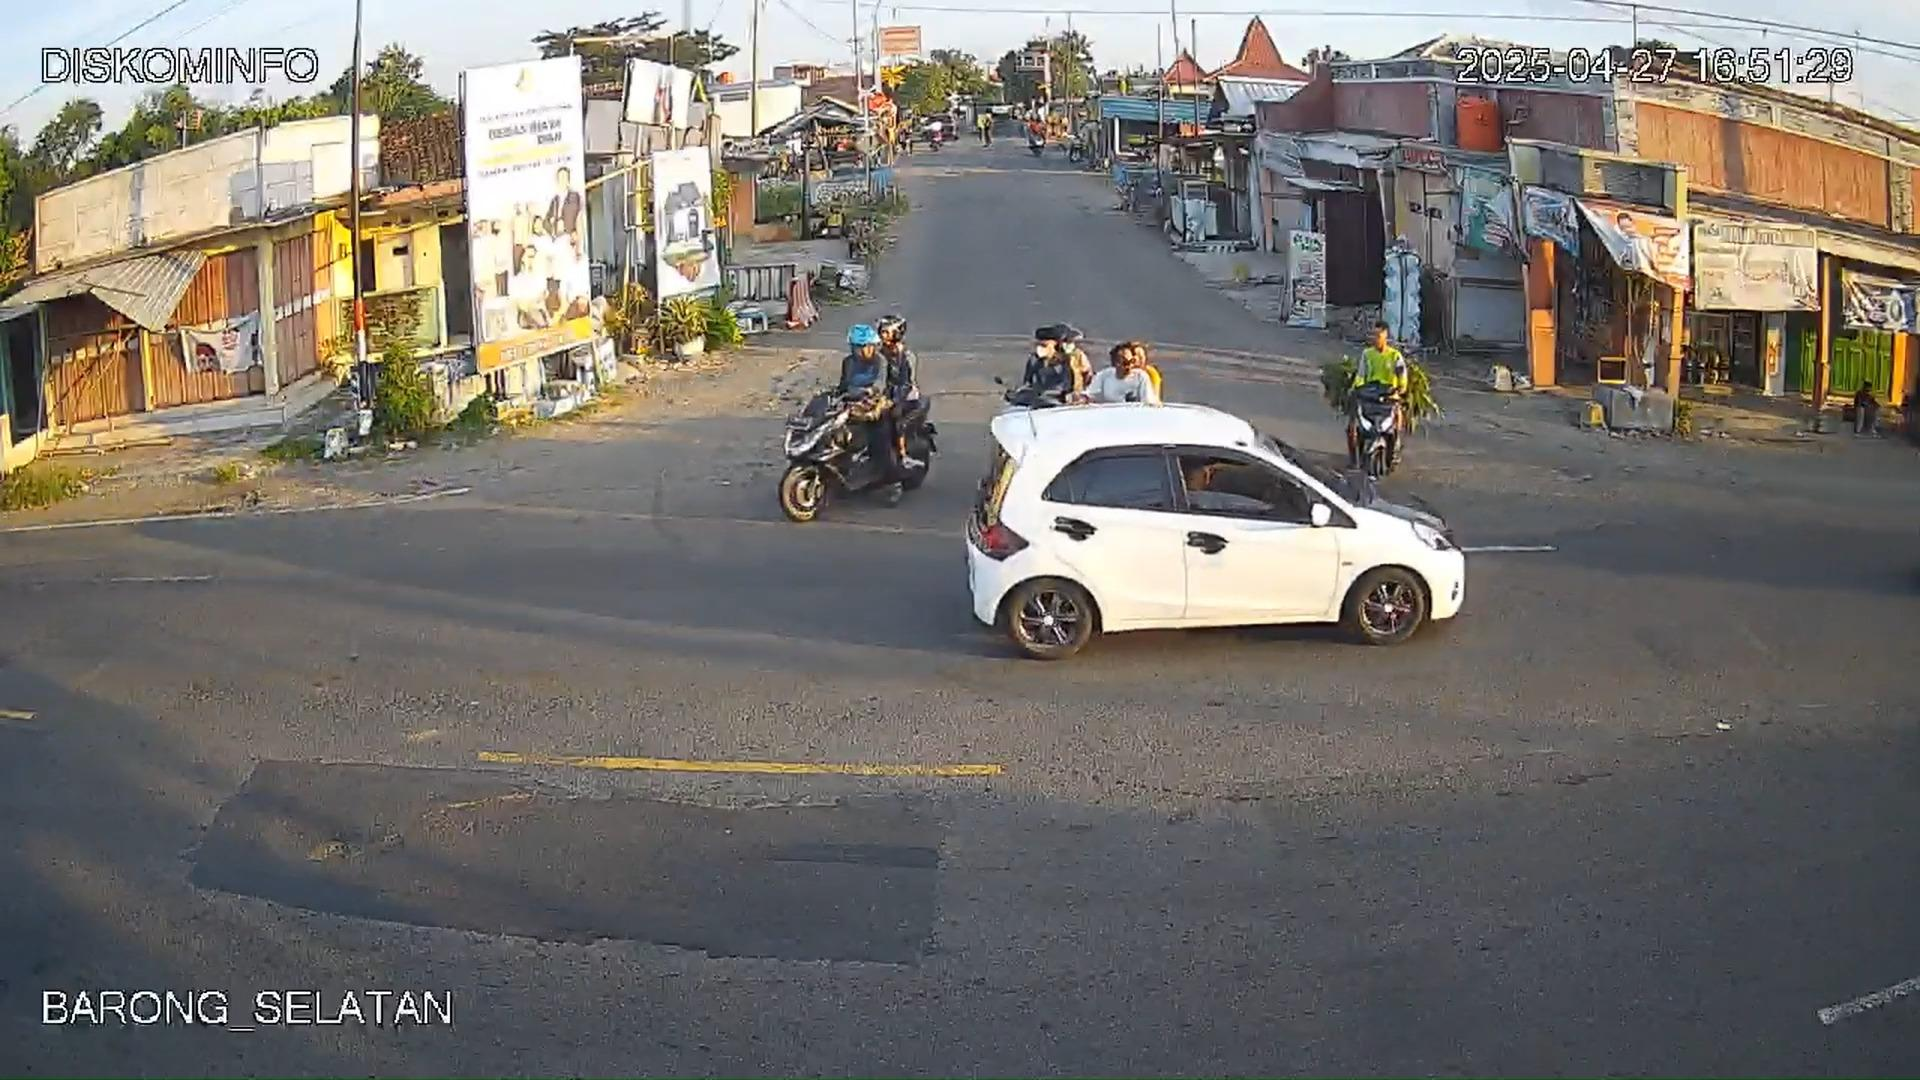Motor: (770, 315, 928, 535), (1344, 319, 1407, 468)
mobil: (972, 396, 1447, 663)
